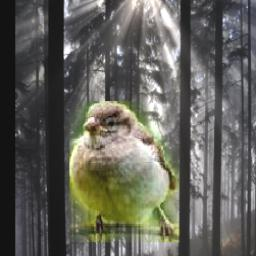Sparrow: (69, 102, 180, 243)
